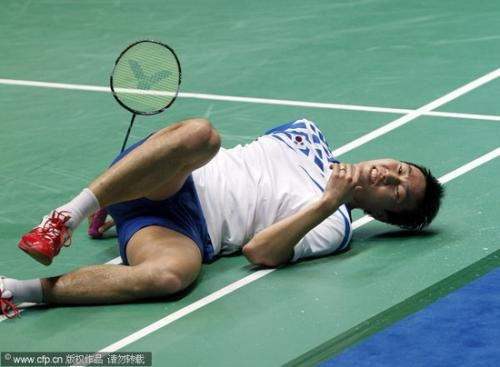falling: (1, 90, 451, 320)
